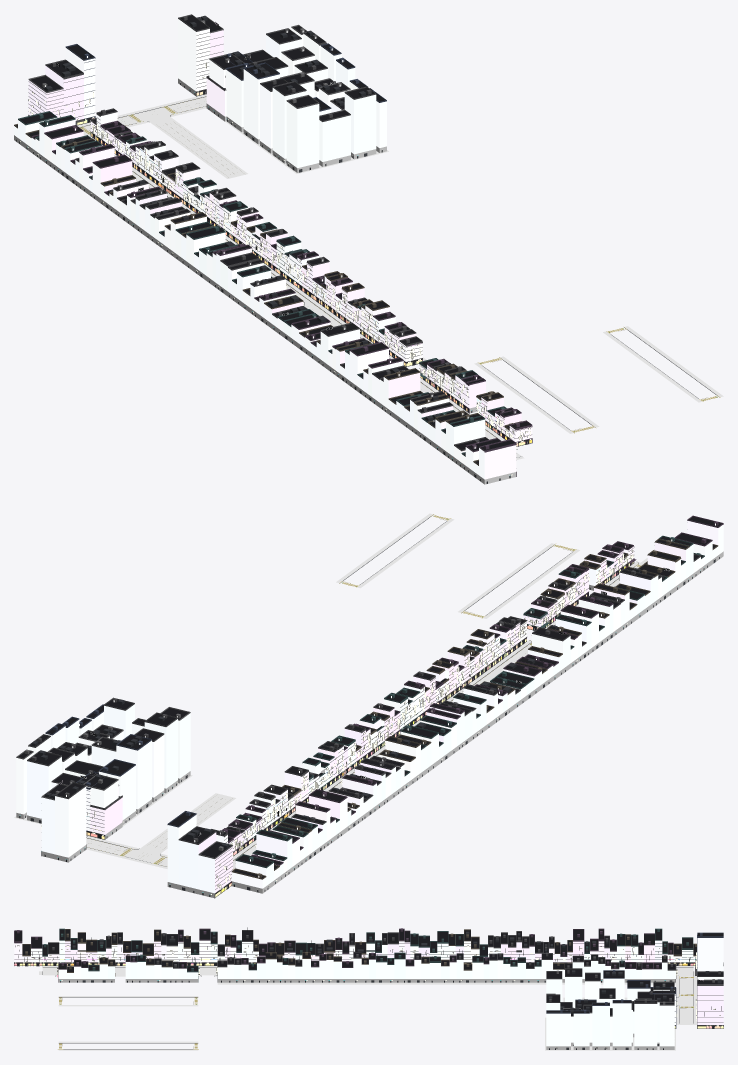
File: world-phone-west.glb
3 views of the same model, one above another, from view 1: azimuth 30°, elevation 25°; view 2: azimuth 150°, elevation 25°; view 3: azimuth 270°, elevation 25° (orthographic). The views are drawn at different scales.
Parts seen in each view (by area): view 1: japantown_facade, mega_facade, japantown_trim, japantown_roof, mega_trim, mega_roof, japantown_concrete, mega_asphalt, japantown_sign, deck_sidewalk, japantown_board_frame, mega_concrete (+3 smaller); view 2: japantown_facade, mega_facade, japantown_trim, japantown_roof, mega_roof, mega_trim, japantown_concrete, japantown_sign, mega_asphalt, deck_sidewalk, japantown_board_frame, mega_concrete (+3 smaller); view 3: japantown_facade, japantown_roof, japantown_trim, mega_facade, mega_roof, mega_trim, japantown_concrete, deck_sidewalk, japantown_sidewalk, mega_asphalt, mega_sidewalk, japantown_metal (+8 smaller).
Part boxes in pixels (<box>): japantown_facade: <box>14,112,532,479</box>; mega_facade: <box>28,19,386,168</box>; japantown_trim: <box>14,108,532,476</box>; japantown_roof: <box>16,109,530,464</box>; mega_trim: <box>28,14,386,134</box>; mega_roof: <box>30,15,384,120</box>; japantown_concrete: <box>14,135,515,484</box>; mega_asphalt: <box>80,96,247,188</box>; japantown_sign: <box>20,124,531,475</box>; deck_sidewalk: <box>420,326,723,440</box>; japantown_board_frame: <box>92,123,530,475</box>; mega_concrete: <box>178,78,386,172</box>; japantown_facade: <box>216,520,723,888</box>; mega_facade: <box>16,704,232,893</box>; japantown_trim: <box>211,515,723,885</box>; japantown_roof: <box>216,517,721,878</box>; mega_roof: <box>18,699,230,857</box>; mega_trim: <box>16,697,232,898</box>; japantown_concrete: <box>232,551,723,893</box>; japantown_sign: <box>231,550,633,886</box>; mega_asphalt: <box>86,793,256,869</box>; deck_sidewalk: <box>336,513,637,628</box>; japantown_board_frame: <box>230,550,669,886</box>; mega_concrete: <box>16,771,214,898</box>; japantown_facade: <box>14,940,696,978</box>; japantown_roof: <box>14,929,696,971</box>; japantown_trim: <box>14,928,696,982</box>; mega_facade: <box>546,938,723,1046</box>; mega_roof: <box>546,933,723,1015</box>; mega_trim: <box>546,932,723,1028</box>; japantown_concrete: <box>58,979,675,982</box>; deck_sidewalk: <box>55,966,201,1050</box>; japantown_sidewalk: <box>39,966,679,984</box>; mega_asphalt: <box>563,967,693,1023</box>; mega_sidewalk: <box>545,966,696,1050</box>; japantown_metal: <box>72,931,636,954</box>.
Bounding box in the file's own units: 256 × 64.13 × 803.
